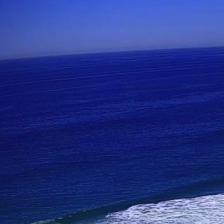surfer: (198, 189, 201, 192)
